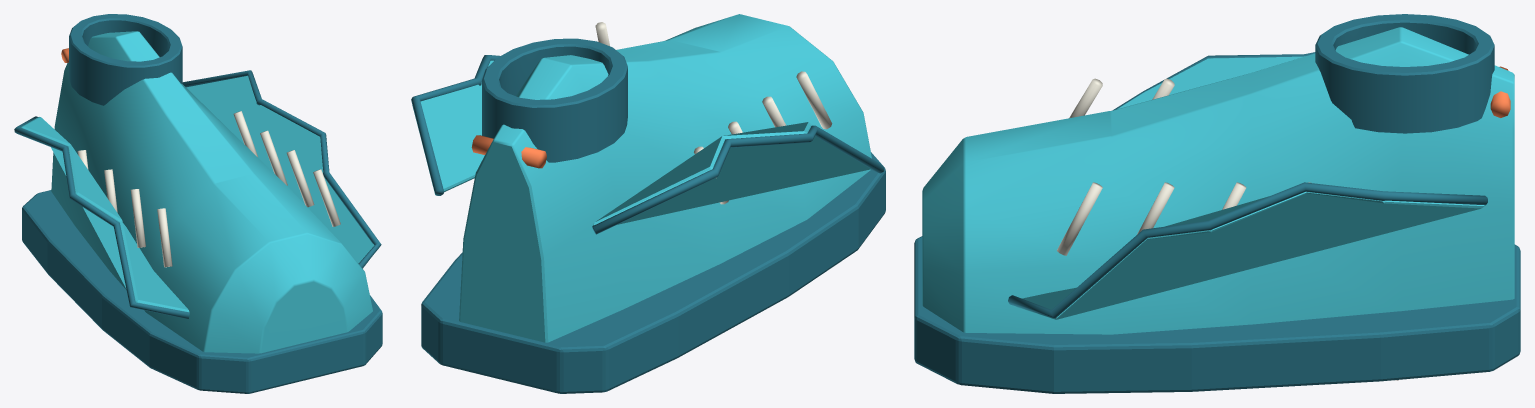
File: TidefinRunners.glb
3 views of the same model, side by side, from view 1: azimuth 30°, elevation 25°; view 2: azimuth 150°, elevation 25°; view 3: azimuth 270°, elevation 25° (orthographic). The views are drawn at different scales.
Parts seen in each view (by area): view 1: TidefinRunners_StaticSurfaces; view 2: TidefinRunners_StaticSurfaces; view 3: TidefinRunners_StaticSurfaces.
Part boxes in pixels (bbox=[...]): TidefinRunners_StaticSurfaces: bbox=[14, 14, 382, 393]; TidefinRunners_StaticSurfaces: bbox=[411, 14, 885, 393]; TidefinRunners_StaticSurfaces: bbox=[914, 14, 1520, 393].
Size of the model in its own units: 0.2008 by 0.1646 by 0.304.
